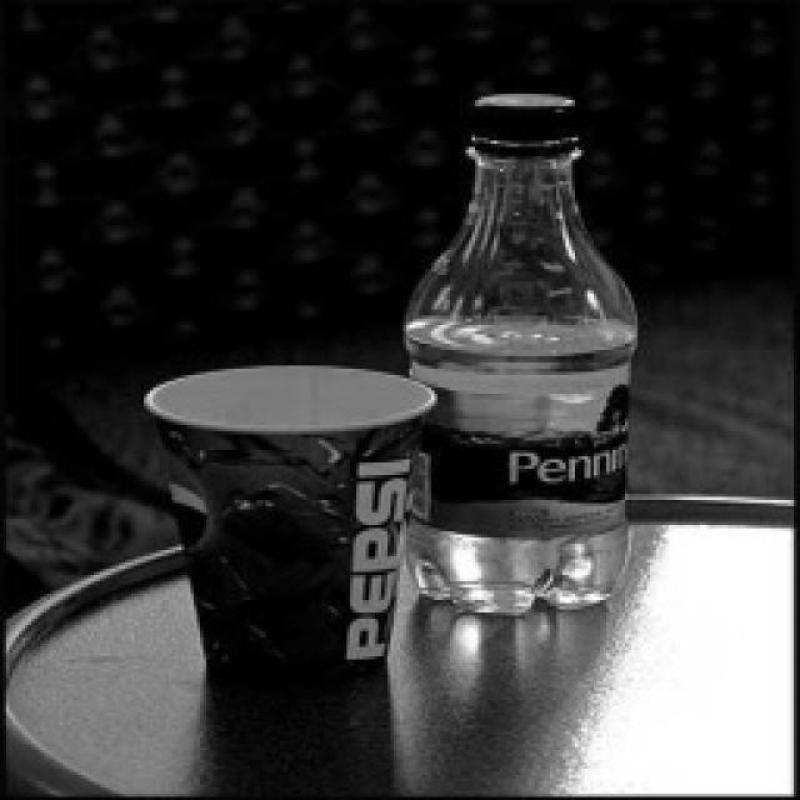botella: (404, 93, 636, 609)
